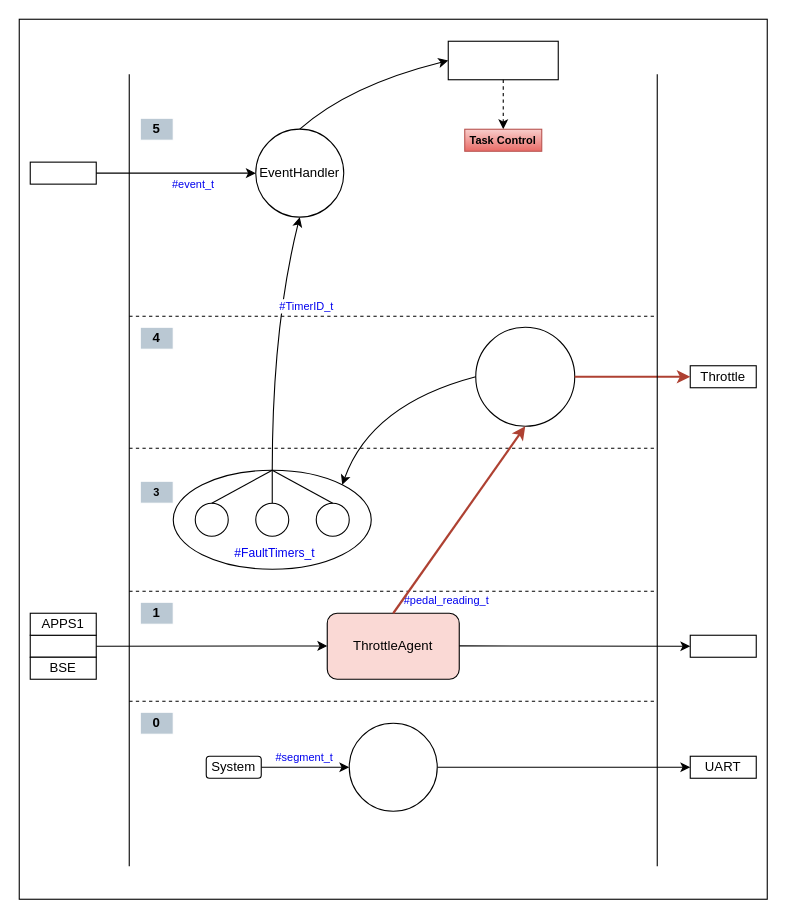
Image size: 787x919. Some labels were removed from this diagram. Here are the shapes that lost their labels. From the top down, the centre of each, then its label:
point (502, 60): State Machine
point (62, 172): Interrupts
point (525, 376): ThrottleActor
point (62, 645): APPS2
point (722, 645): Brakelight
point (392, 766): Logger
